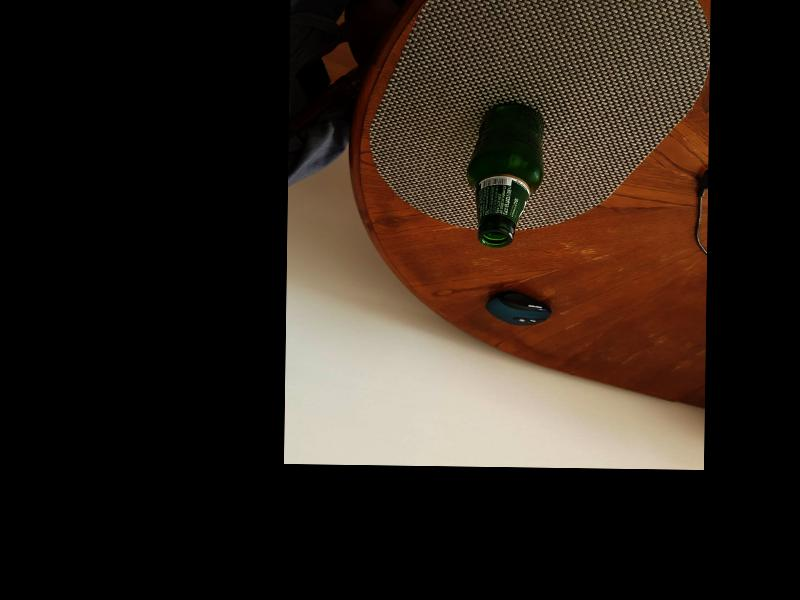Beer: (463, 102, 547, 249)
